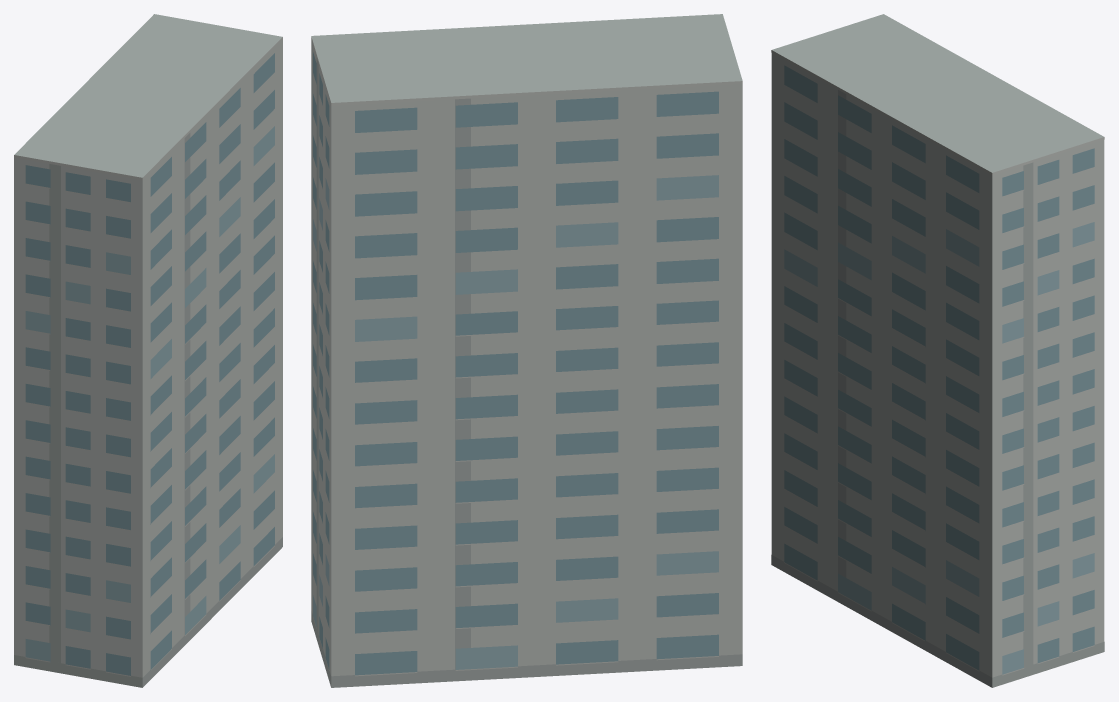
File: residential-26bd38c0-f887-4d72-ad00-1075483d353a.glb
3 views of the same model, side by side, from view 1: azimuth 30°, elevation 25°; view 2: azimuth 150°, elevation 25°; view 3: azimuth 270°, elevation 25° (orthographic). The views are drawn at different scales.
Visible parts, largest first — view 1: residential-26bd38c0-f887-4d72-ad00-1075483d353a.tmp; view 2: residential-26bd38c0-f887-4d72-ad00-1075483d353a.tmp; view 3: residential-26bd38c0-f887-4d72-ad00-1075483d353a.tmp.
Boxes of the visible parts, x1=… form: residential-26bd38c0-f887-4d72-ad00-1075483d353a.tmp: x1=14, y1=14, x2=282, y2=687; residential-26bd38c0-f887-4d72-ad00-1075483d353a.tmp: x1=311, y1=14, x2=742, y2=687; residential-26bd38c0-f887-4d72-ad00-1075483d353a.tmp: x1=771, y1=14, x2=1104, y2=687.
Bounding box in the file's own units: 31.77 × 48 × 28.13.
